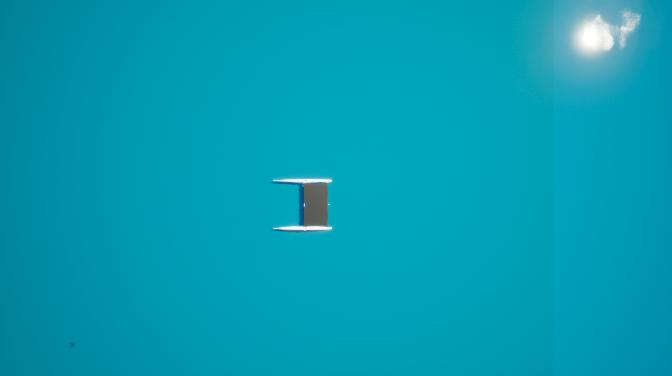boat: (270, 176, 337, 237)
drone: (68, 339, 77, 351)
land_base: (304, 184, 327, 224)
light_reflex: (551, 0, 647, 79)
